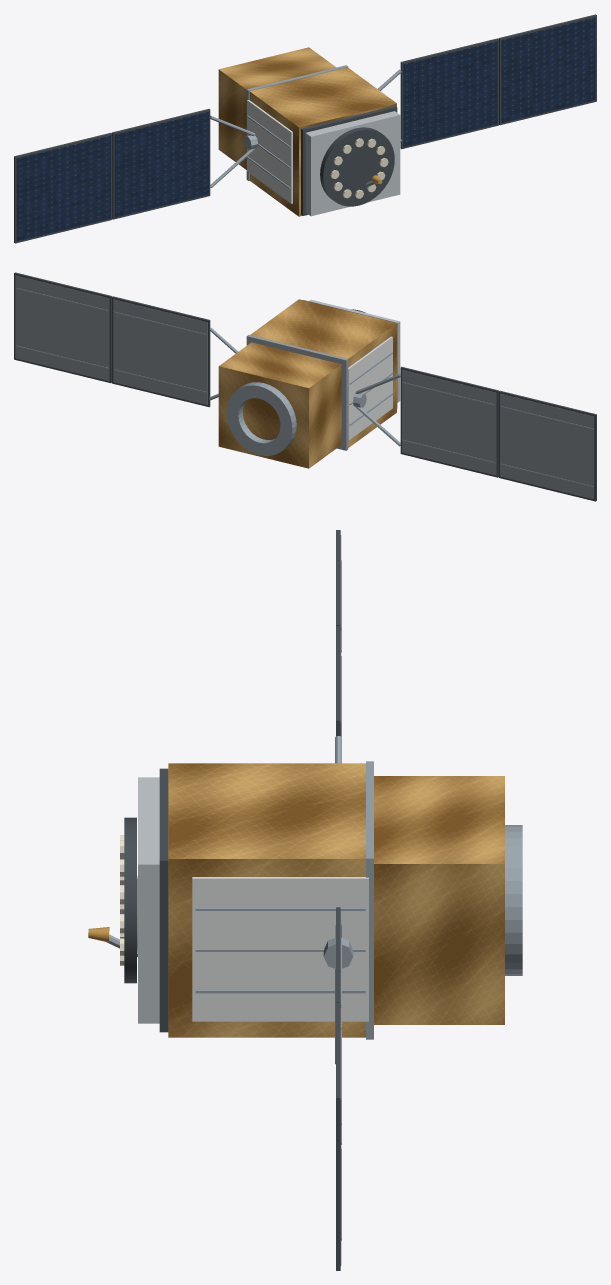
Rendered from nvs.glb.
The picture shows the model from 3 angles, top to bottom: view 1: azimuth 30°, elevation 25°; view 2: azimuth 150°, elevation 25°; view 3: azimuth 270°, elevation 25°; orthographic projection. The views are drawn at different scales.
Parts seen in each view (by area): view 1: Solar cell panel (×4), Payload module, Service module, Solar panel frame (×4), Planar antenna aperture, Antenna equipment shelf, Radiator face, Earth-facing deck, Module interface; view 2: Rear array substrate (×4), Service module, Payload module, Solar panel frame (×4), Radiator face, Launch adapter ring, Module interface, Antenna equipment shelf; view 3: Service module, Payload module, Radiator face, Antenna equipment shelf, Launch adapter ring, Earth-facing deck, Planar antenna aperture, Module interface, Solar panel frame.
Boxes of the visible parts, x1,y1,x2,y2 form: Solar cell panel (×4): (16, 17, 595, 241); Payload module: (249, 67, 396, 216); Service module: (218, 47, 336, 169); Solar panel frame (×4): (14, 14, 596, 243); Planar antenna aperture: (320, 127, 394, 206); Antenna equipment shelf: (305, 111, 400, 216); Radiator face: (247, 100, 292, 203); Earth-facing deck: (301, 106, 397, 215); Module interface: (246, 65, 348, 180); Rear array substrate (×4): (15, 275, 594, 499); Service module: (218, 342, 341, 468); Payload module: (250, 299, 396, 447); Solar panel frame (×4): (14, 272, 596, 501); Radiator face: (347, 336, 392, 440); Launch adapter ring: (226, 382, 296, 455); Module interface: (246, 335, 348, 450); Antenna equipment shelf: (309, 299, 400, 402); Service module: (374, 776, 504, 1024); Payload module: (168, 763, 365, 1037); Radiator face: (192, 877, 368, 1021); Antenna equipment shelf: (138, 777, 159, 1023); Launch adapter ring: (505, 825, 522, 975); Earth-facing deck: (159, 768, 168, 1032); Planar antenna aperture: (124, 817, 136, 983); Module interface: (366, 761, 373, 1039); Solar panel frame: (336, 1003, 340, 1270).
Size of the model in its own units: 9.48 by 1.41 by 3.07.
Materials: 10 (2 with a texture image).
